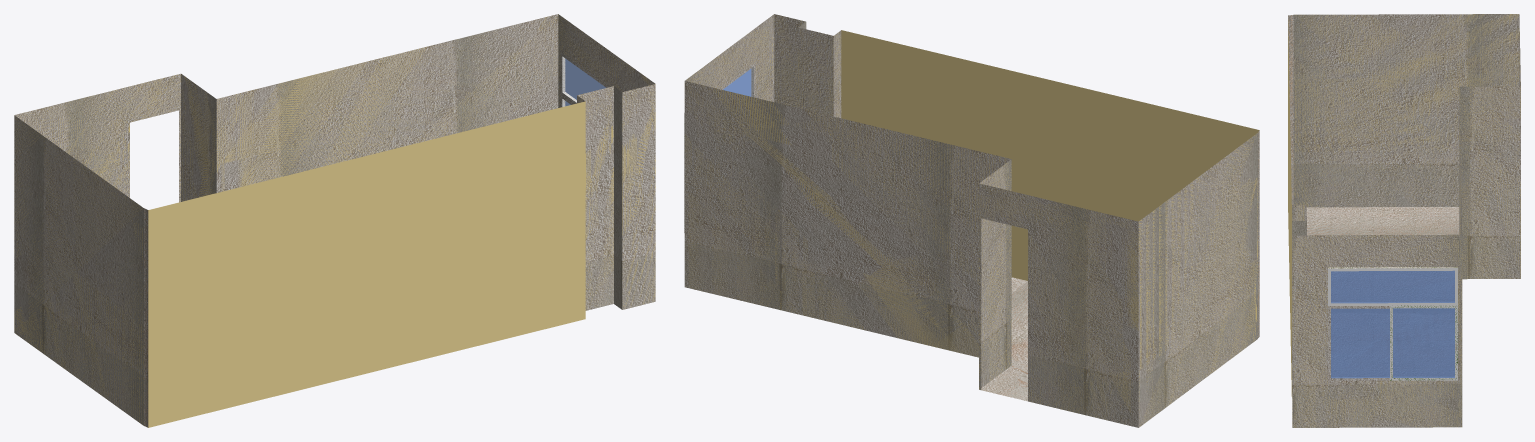
Rendered from DES008.obj.
3 renders of one model, left to right at view 1: azimuth 30°, elevation 25°; view 2: azimuth 150°, elevation 25°; view 3: azimuth 270°, elevation 25°, orthographic. The views are drawn at different scales.
Parts seen in each view (by area): view 1: Mesh7 DES008_ Model, Mesh1 ventana1_2_1 DES008_ Model; view 2: Mesh7 DES008_ Model, Mesh1 ventana1_2_1 DES008_ Model; view 3: Mesh7 DES008_ Model, Mesh1 ventana1_2_1 DES008_ Model.
Boxes of the visible parts, x1,y1,x2,y2 form: Mesh7 DES008_ Model: (14, 14, 655, 427); Mesh1 ventana1_2_1 DES008_ Model: (560, 52, 609, 107); Mesh7 DES008_ Model: (684, 14, 1259, 427); Mesh1 ventana1_2_1 DES008_ Model: (684, 62, 755, 232); Mesh7 DES008_ Model: (1288, 14, 1520, 427); Mesh1 ventana1_2_1 DES008_ Model: (1328, 267, 1457, 380).
Bounding box in the file's own units: 8.92 × 3.6 × 3.94.
8 materials, 2 textured.
